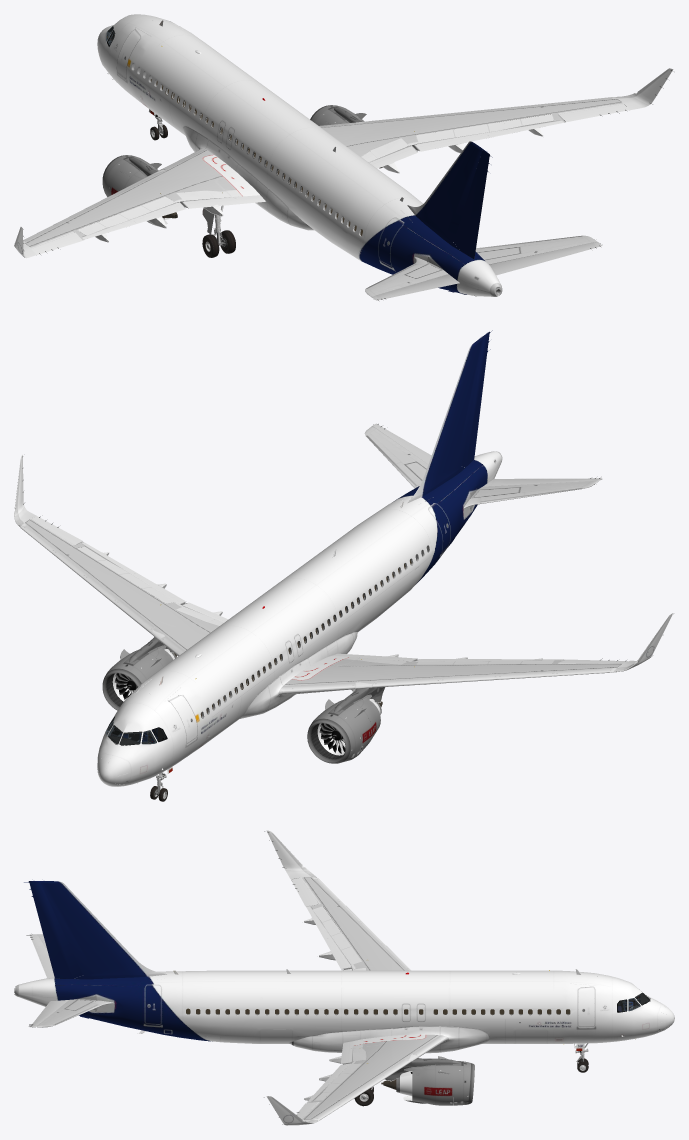
File: cockpit.glb
3 renders of one model, top to bottom at view 1: azimuth 30°, elevation 25°; view 2: azimuth 150°, elevation 25°; view 3: azimuth 270°, elevation 25°, orthographic. The views are drawn at different scales.
Visible parts, largest first — view 1: Object_92, Object_1, Object_69, Object_83; view 2: Object_92, Object_1, Object_83, Object_55; view 3: Object_92, Object_1, Object_83, Object_69.
Part boxes in pixels (x1=…): Object_92: x1=14, y1=14, x2=673, y2=300; Object_1: x1=102, y1=105, x2=382, y2=224; Object_69: x1=150, y1=113, x2=235, y2=257; Object_83: x1=99, y1=28, x2=550, y2=236; Object_92: x1=14, y1=330, x2=673, y2=786; Object_1: x1=102, y1=637, x2=385, y2=763; Object_83: x1=81, y1=545, x2=429, y2=718; Object_55: x1=106, y1=717, x2=167, y2=745; Object_92: x1=14, y1=830, x2=674, y2=1125; Object_1: x1=381, y1=1056, x2=474, y2=1105; Object_83: x1=186, y1=908, x2=570, y2=1029; Object_69: x1=354, y1=1043, x2=588, y2=1106.
Size of the model in its own units: 8.67 by 2.95 by 9.11.
Materials: 13 (12 with a texture image).
